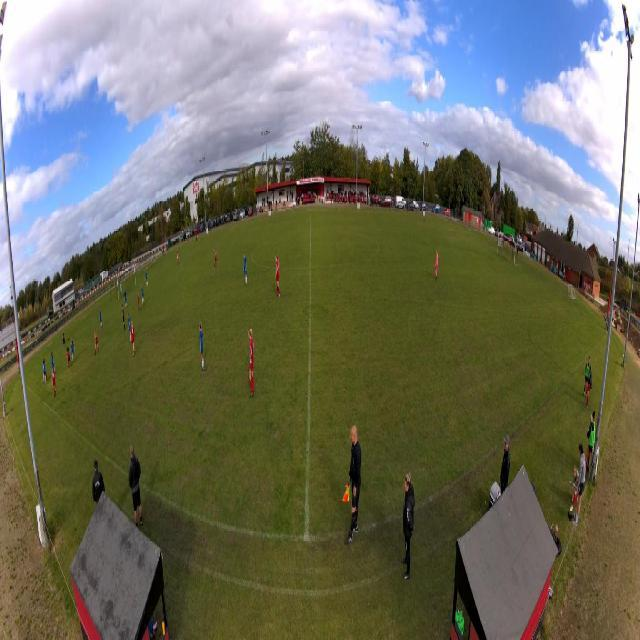ball: (67, 362, 69, 368)
player: (248, 328, 255, 399), (198, 322, 206, 376), (275, 254, 281, 299), (51, 366, 57, 398), (130, 321, 135, 356), (243, 252, 248, 286), (66, 346, 72, 371), (94, 328, 99, 356), (121, 304, 126, 330), (435, 249, 439, 279), (127, 312, 131, 342), (70, 341, 75, 361), (52, 352, 56, 376), (214, 248, 218, 270), (137, 291, 141, 313), (141, 285, 145, 306), (99, 308, 103, 329), (213, 249, 217, 269), (124, 289, 128, 308), (43, 359, 46, 383), (145, 270, 149, 287), (119, 282, 123, 298), (176, 248, 179, 265)
